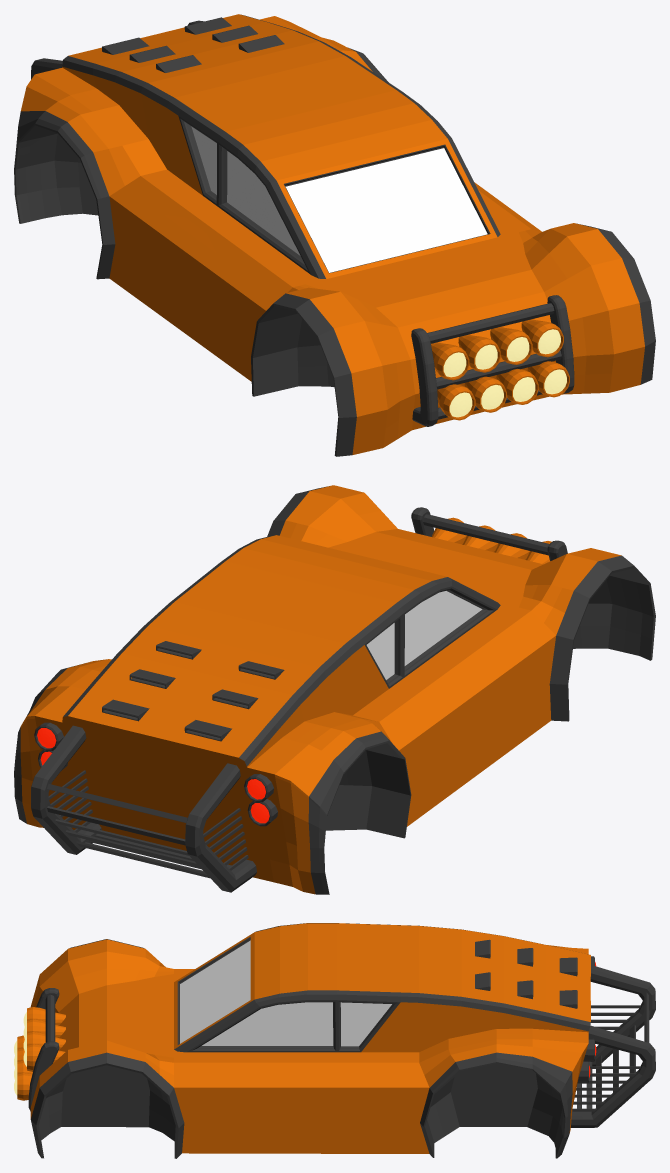
Rendered from Vehicle_1_003.glb.
3 renders of one model, top to bottom at view 1: azimuth 30°, elevation 25°; view 2: azimuth 150°, elevation 25°; view 3: azimuth 270°, elevation 25°, orthographic. The views are drawn at different scales.
Visible parts, largest first — view 1: Car_001.010; view 2: Car_001.010; view 3: Car_001.010.
Boxes of the visible parts, box(x1,y1,x2,y2) form: Car_001.010: box(14, 14, 655, 456); Car_001.010: box(14, 485, 655, 894); Car_001.010: box(14, 923, 655, 1158).
Size of the model in its own units: 3.8 by 2.02 by 8.28.
